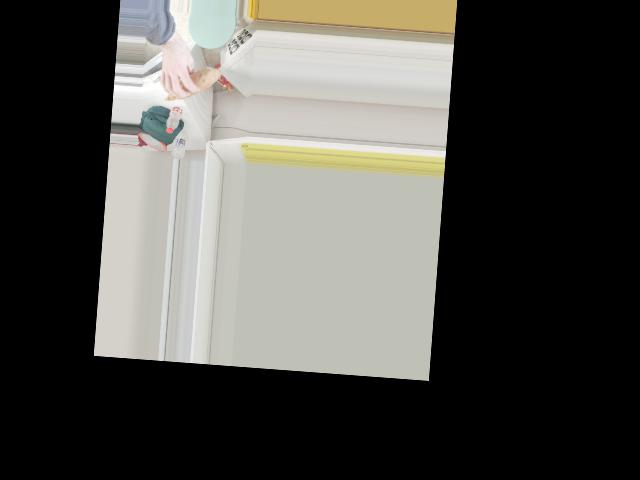sweet_potato: (162, 63, 219, 102)
